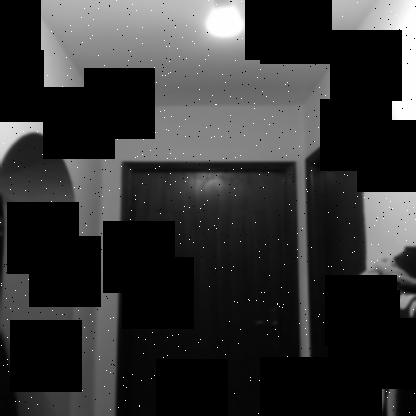Porte: (116, 160, 302, 416)
